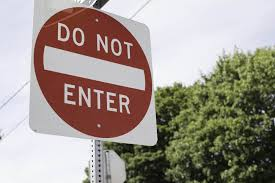No entry: (34, 7, 152, 138)
